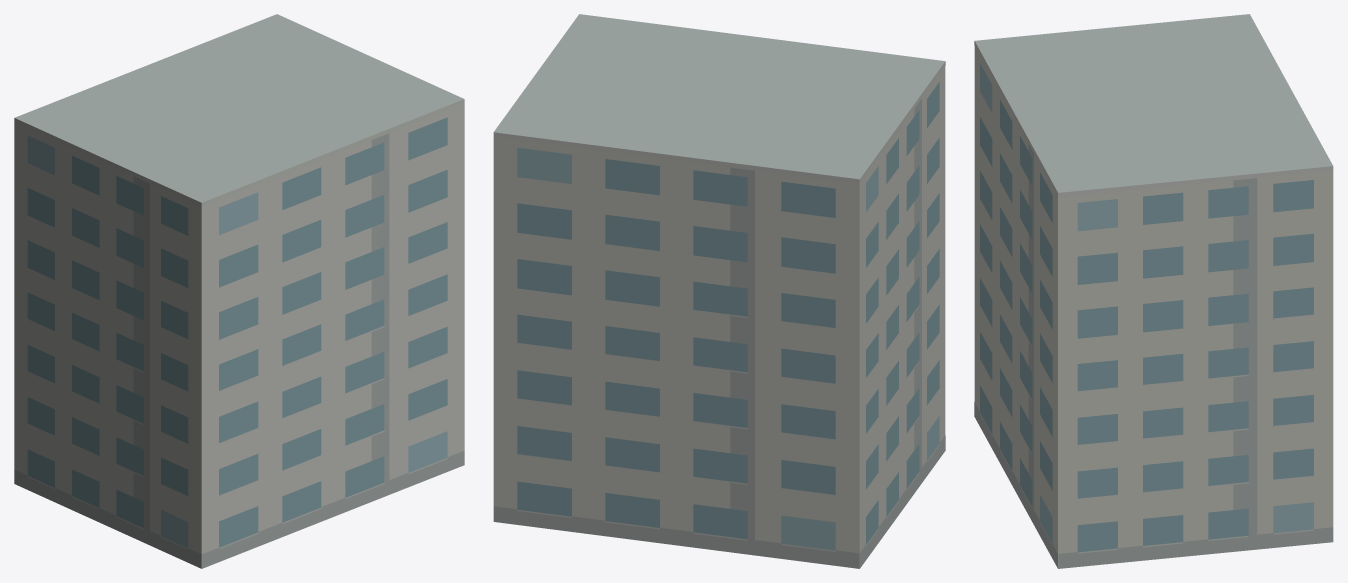
File: survey-upis-32523796.glb
3 views of the same model, side by side, from view 1: azimuth 30°, elevation 25°; view 2: azimuth 150°, elevation 25°; view 3: azimuth 270°, elevation 25° (orthographic). The views are drawn at different scales.
Visible parts, largest first — view 1: survey-upis-32523796.tmp; view 2: survey-upis-32523796.tmp; view 3: survey-upis-32523796.tmp.
Boxes of the visible parts, box(x1,y1,x2,y2) form: survey-upis-32523796.tmp: box(14, 14, 464, 568); survey-upis-32523796.tmp: box(493, 14, 945, 568); survey-upis-32523796.tmp: box(974, 14, 1333, 568).
Bounding box in the file's own units: 20.41 × 20 × 17.31.
